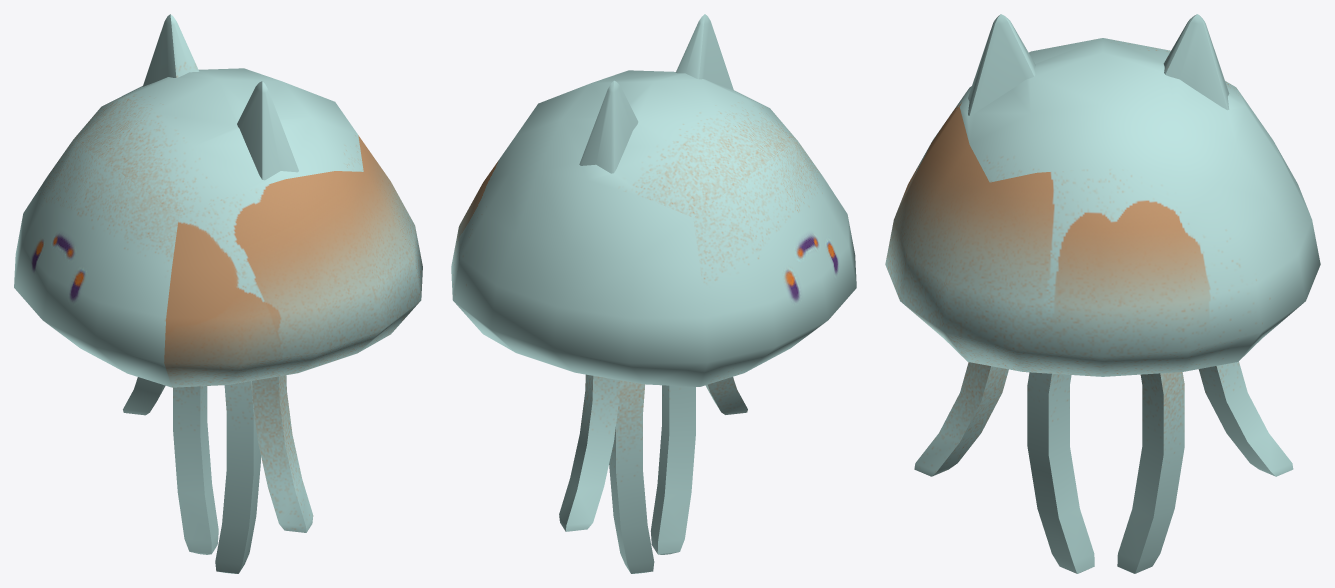
Rendered from jellyfish_icon.gltf.
3 renders of one model, left to right at view 1: azimuth 30°, elevation 25°; view 2: azimuth 150°, elevation 25°; view 3: azimuth 270°, elevation 25°, orthographic. The views are drawn at different scales.
Parts seen in each view (by area): view 1: Box005; view 2: Box005; view 3: Box005.
Boxes of the visible parts, x1,y1,x2,y2 form: Box005: (14,14,422,573); Box005: (451,14,856,573); Box005: (885,14,1320,573).
Bounding box in the file's own units: 0.2081 × 0.2926 × 0.2081.
Materials: 1 (1 with a texture image).
